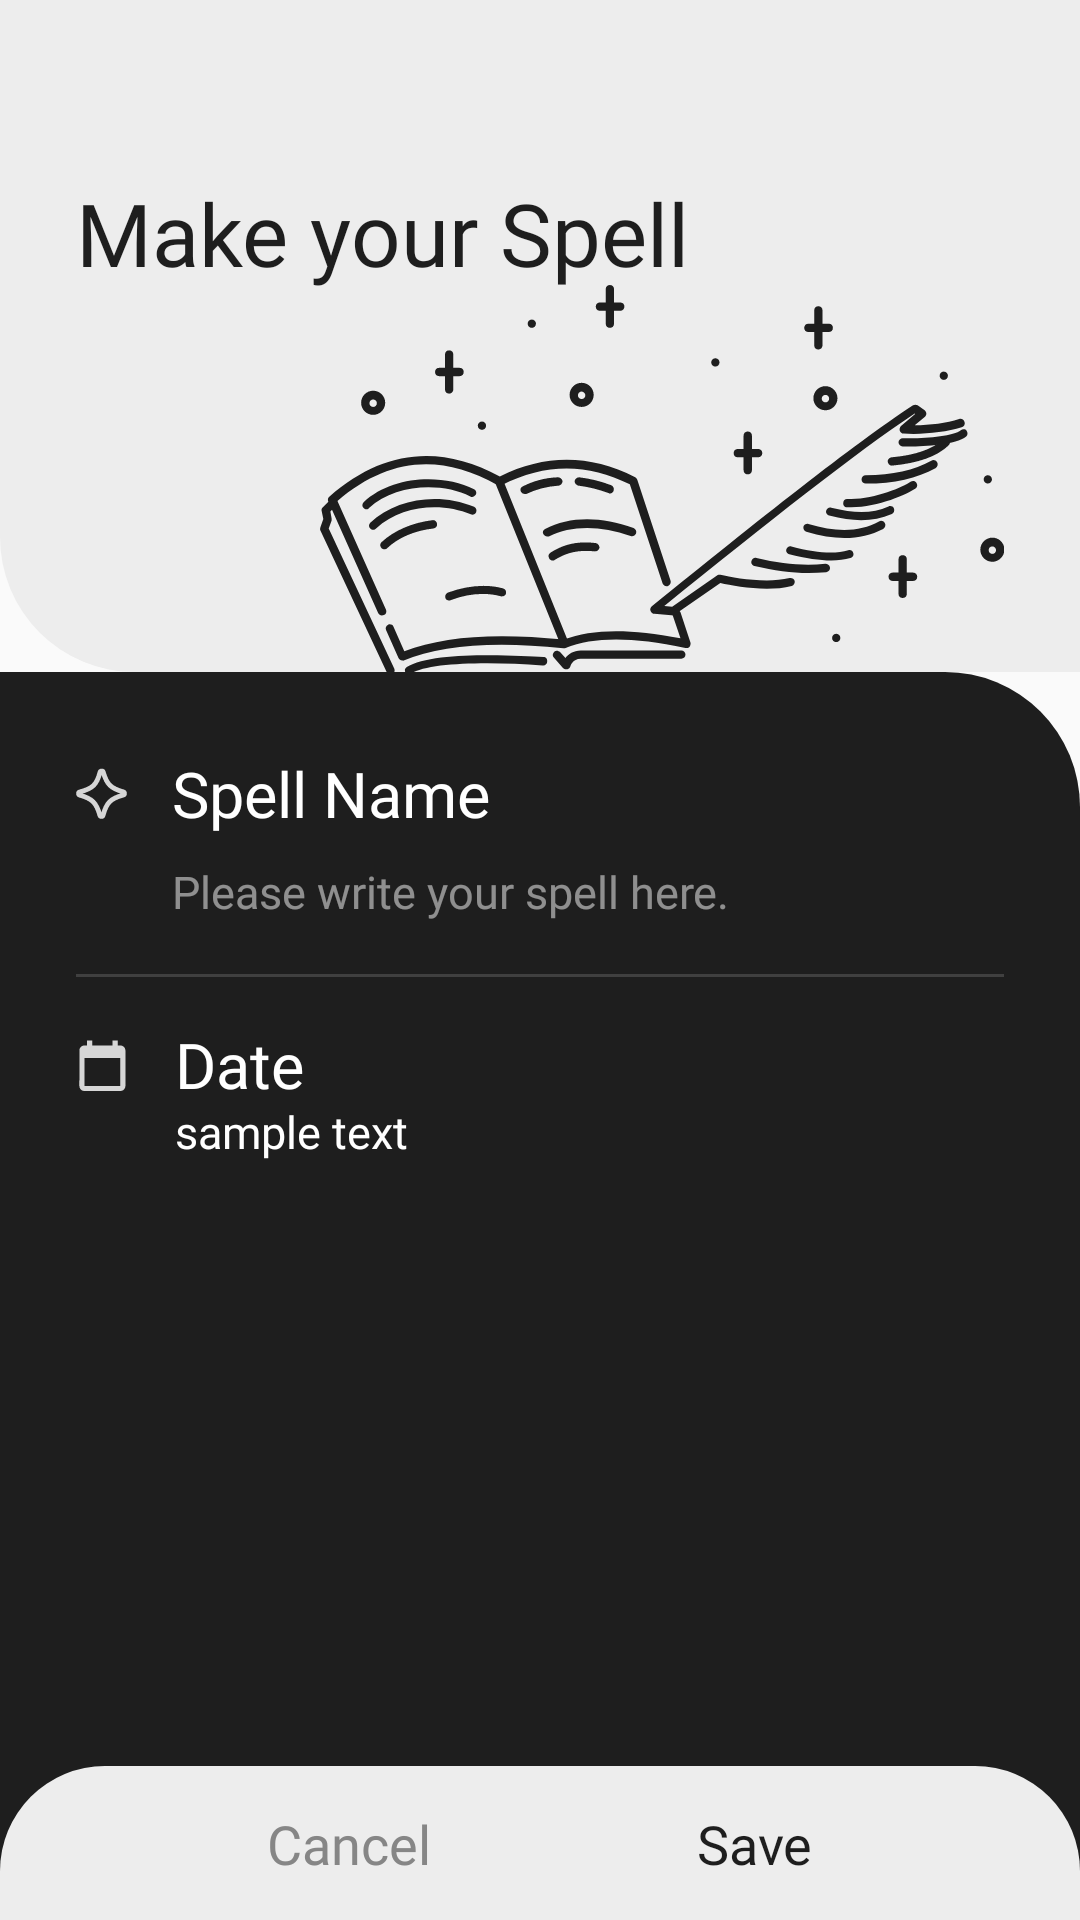

Where to tap for icons on this 1080x1920 app screen, as point (x, y):
create spell: point (101, 793)
